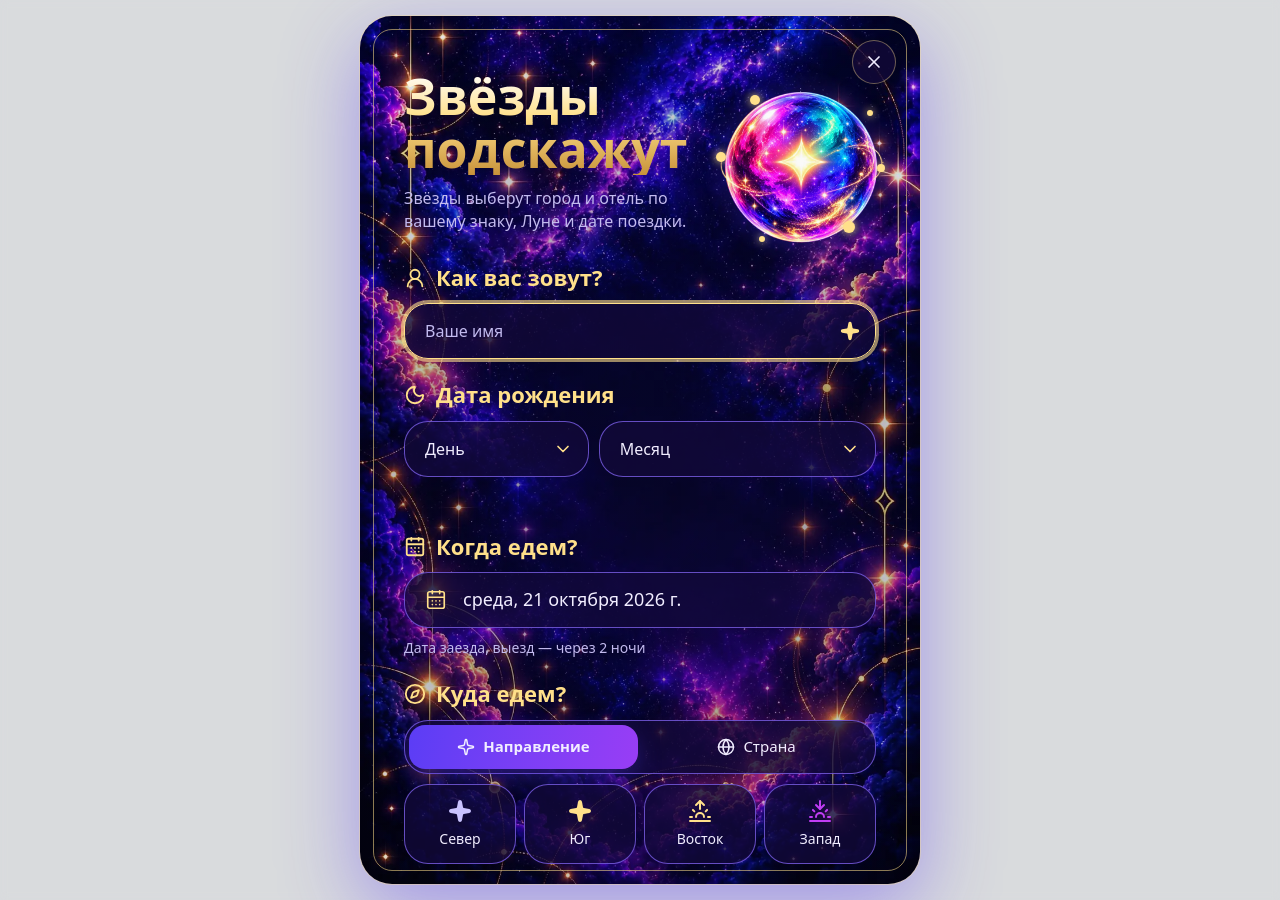
it: StarSearch form › rejects a day the month does not have
Type "Анна" into the field labelled "Как вас зовут?".
click(640, 331); type("Анна")  # box [404,303,876,359]
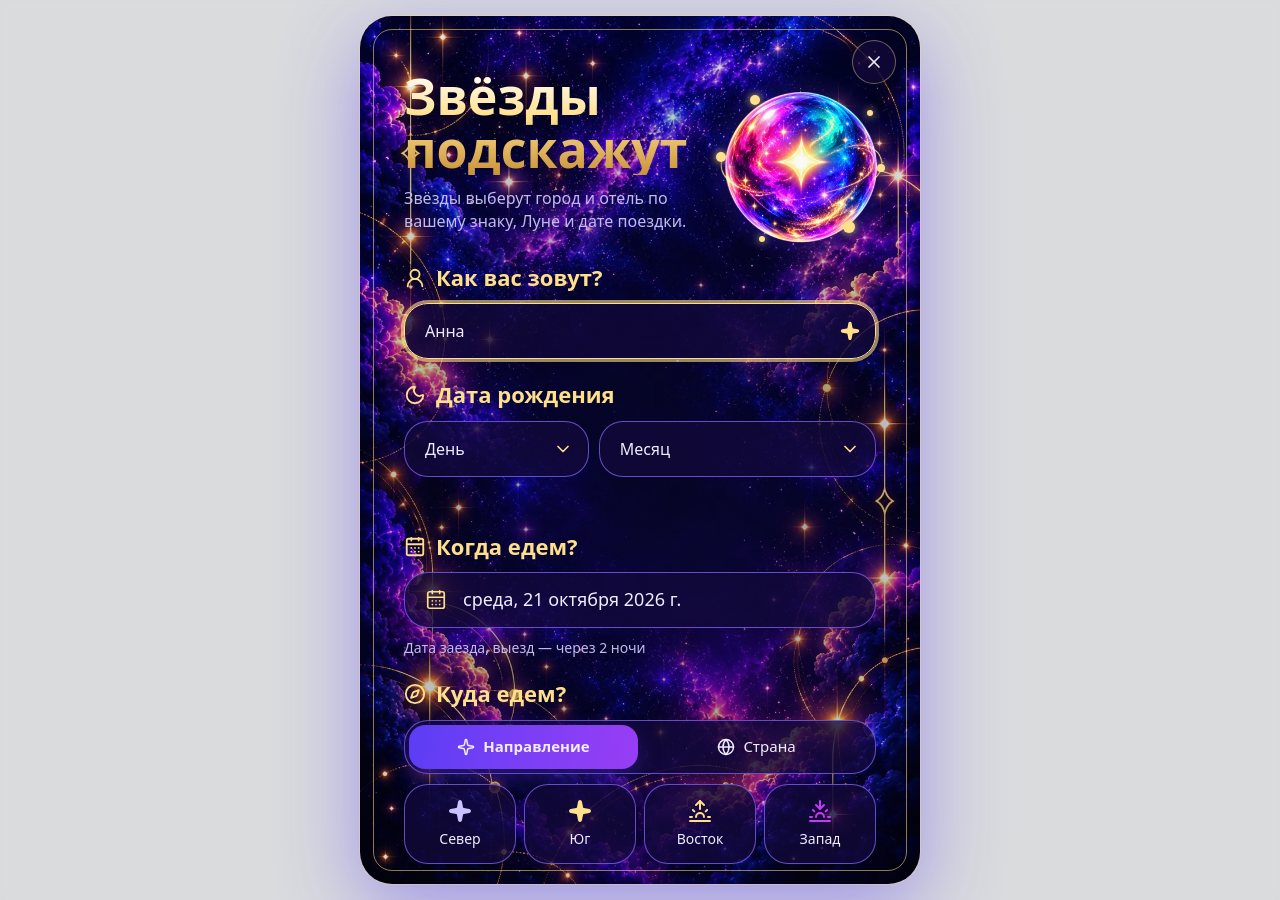
Select "31" in the dropdown named "День" at [496, 449], box [404,421,589,477]
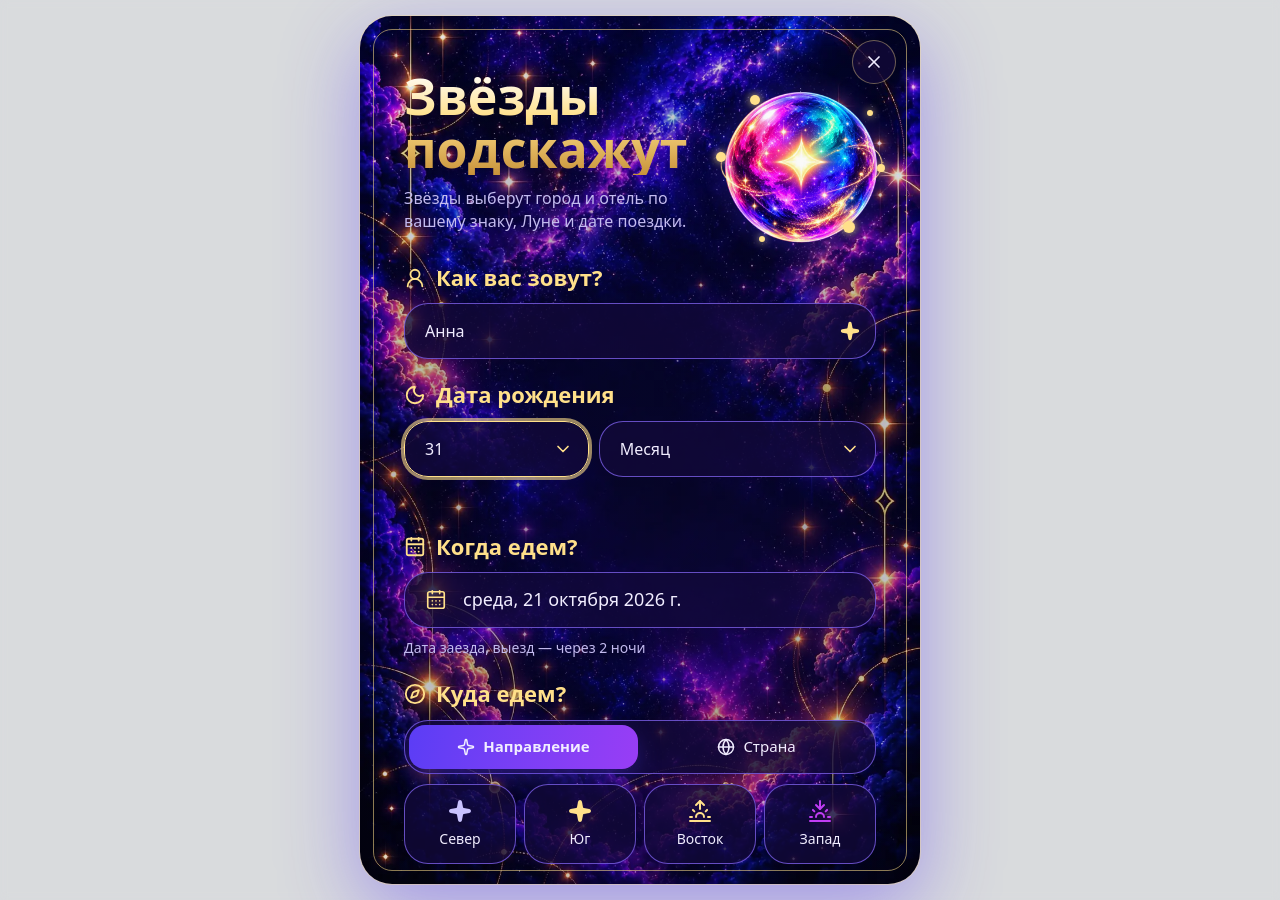
Select "апреля" in the dropdown named "Месяц" at [737, 449], box [599,421,876,477]
(page scrolled)
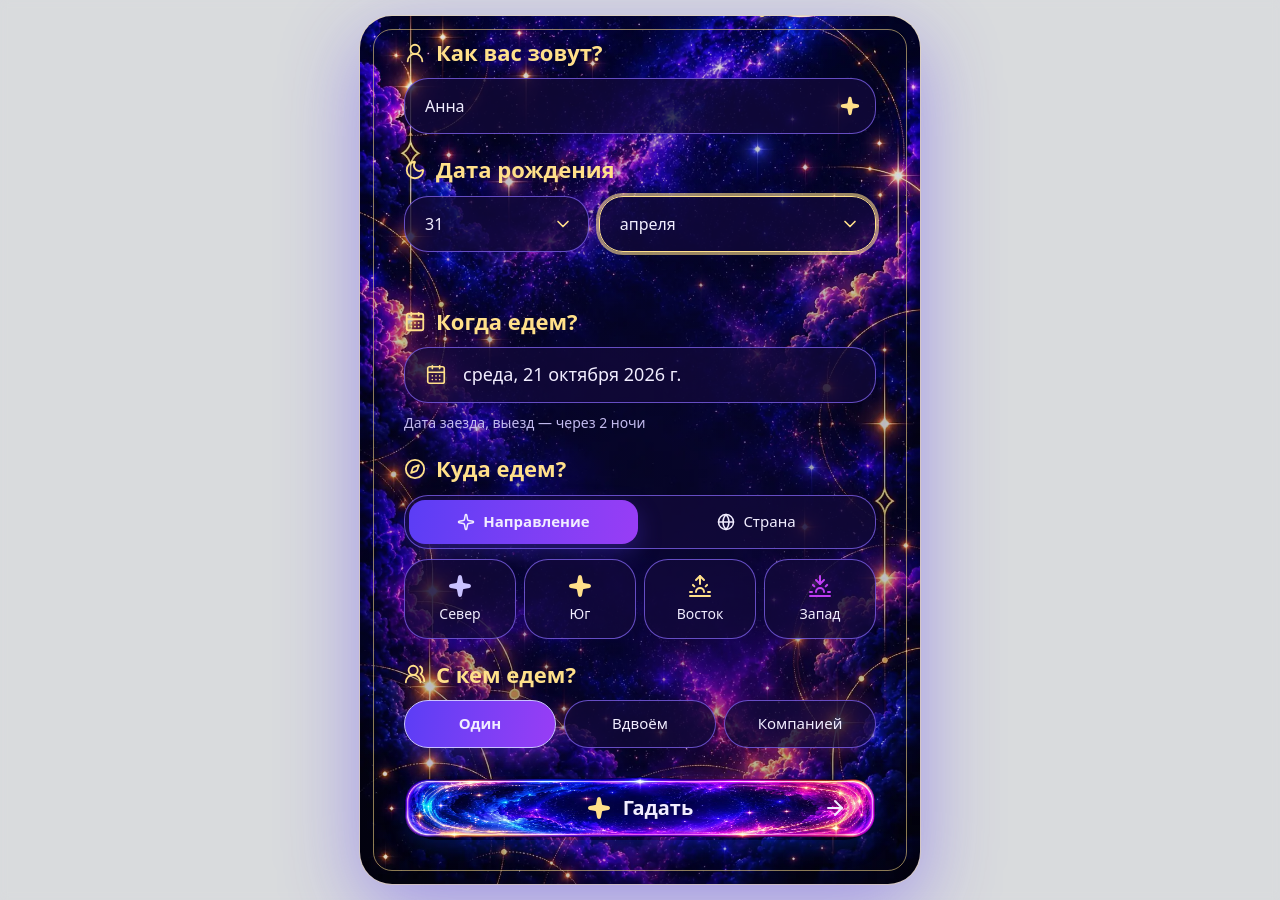
Click the button "Гадать".
click(640, 808)  # box [404,776,876,840]
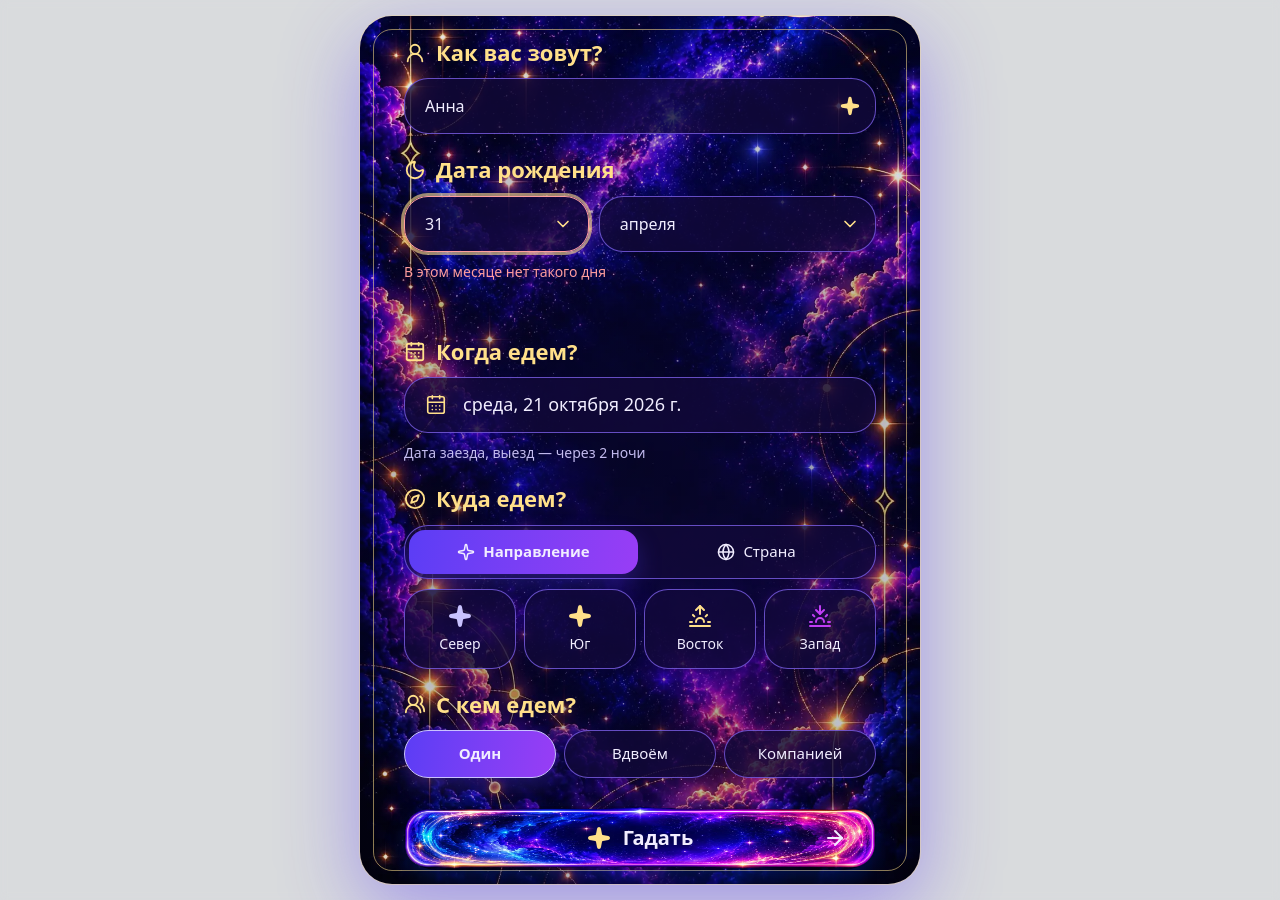
Now the message reads "В этом месяце нет такого дня", box [404,262,606,281]
